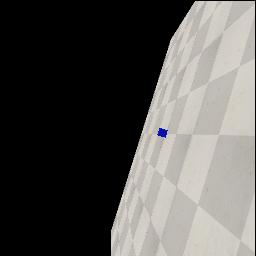box: (157, 128, 168, 138)
